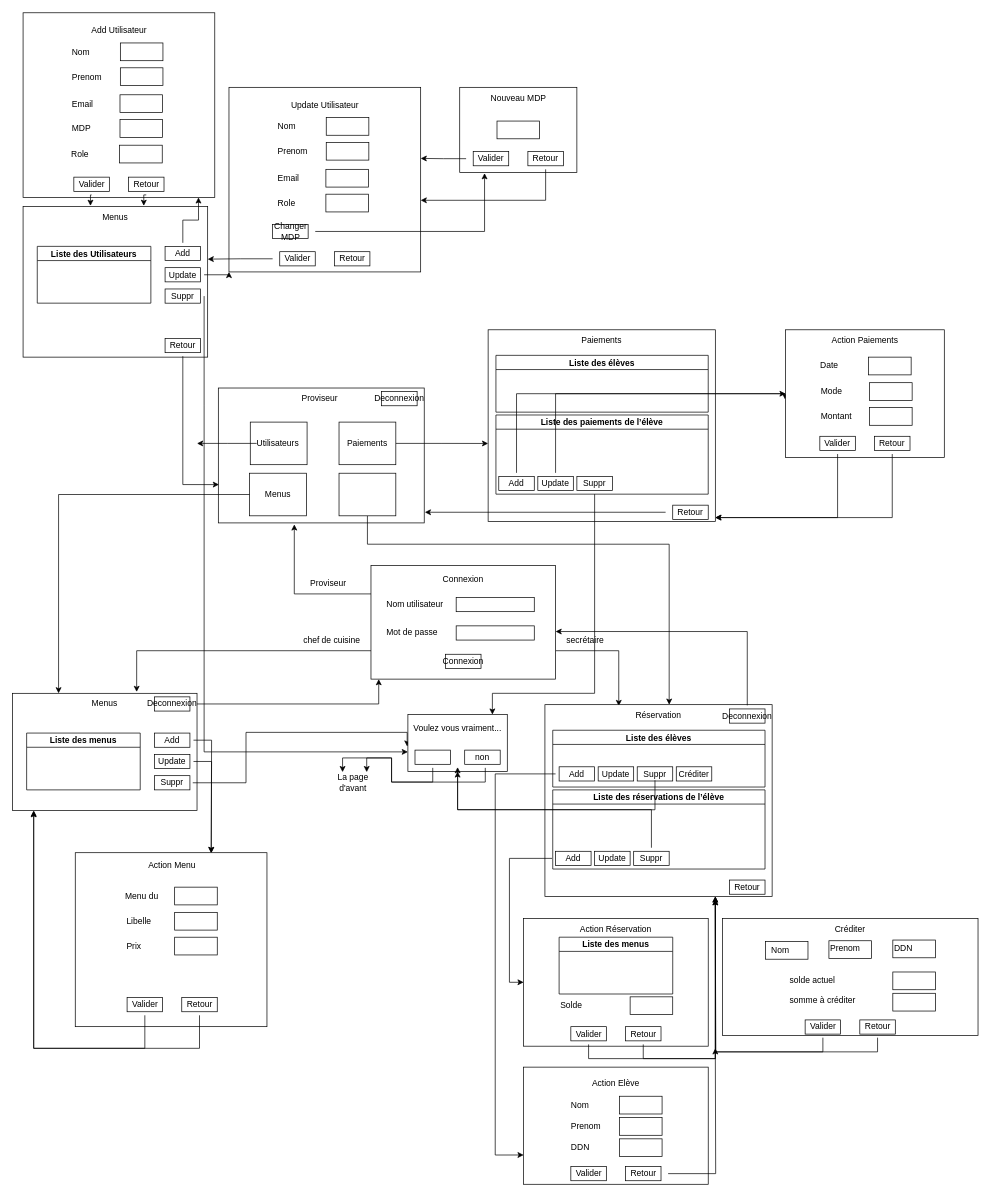
Image size: 990x1196. Some labels were removed from this diagram. Here are the shapes that lost their labels. From the top down, the centre of each, then its label:
the point at 367,494: Reservations
the point at 432,756: oui
